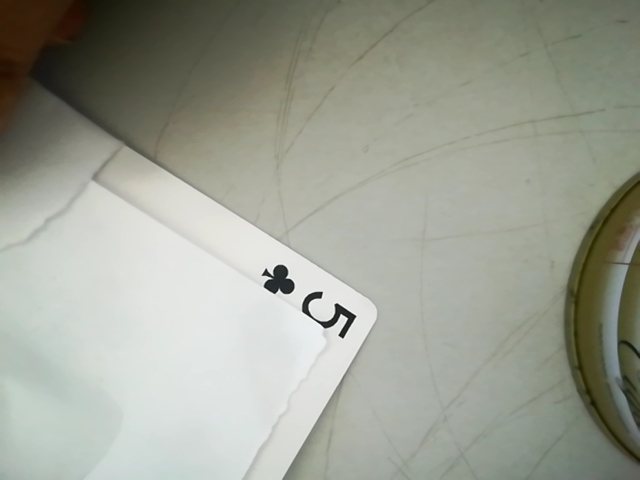mh 5: (250, 257, 364, 344)
